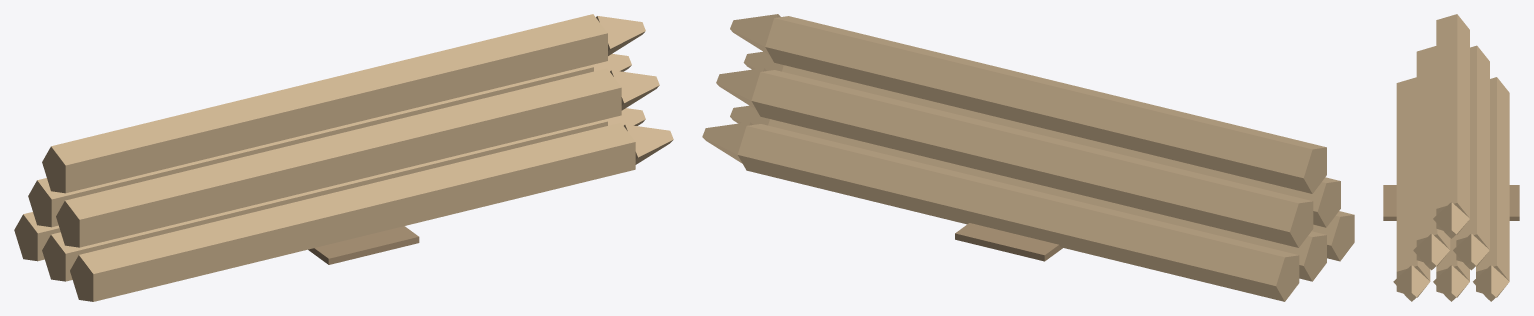
Rendered from prop-trenail-stack.fbx.
The picture shows the model from 3 angles, left to right: view 1: azimuth 30°, elevation 25°; view 2: azimuth 150°, elevation 25°; view 3: azimuth 270°, elevation 25°; orthographic projection. The views are drawn at different scales.
Parts seen in each view (by area): view 1: prop-trenail-stack; view 2: prop-trenail-stack; view 3: prop-trenail-stack.
Boxes of the visible parts, x1,y1,x2,y2 form: prop-trenail-stack: [14, 14, 673, 301]; prop-trenail-stack: [702, 14, 1354, 301]; prop-trenail-stack: [1383, 14, 1519, 301].
Bounding box in the file's own units: 39 × 8.7 × 11.
